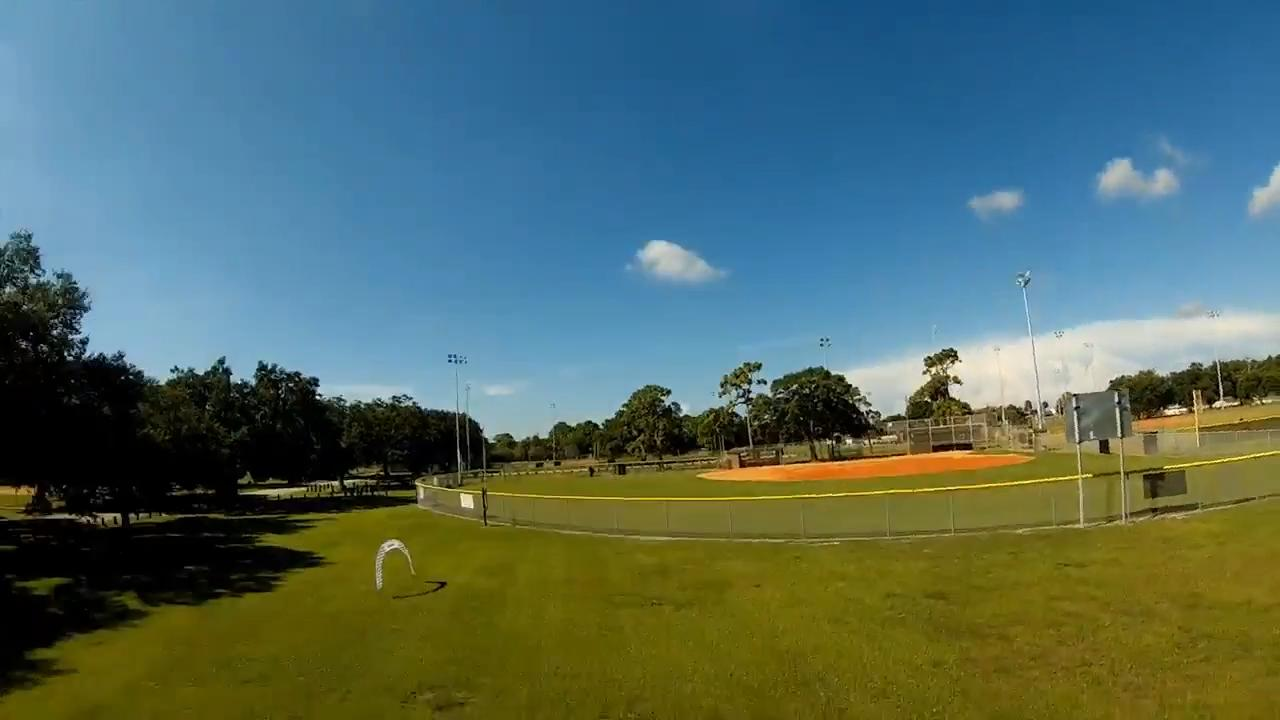gate: (372, 537, 416, 590)
